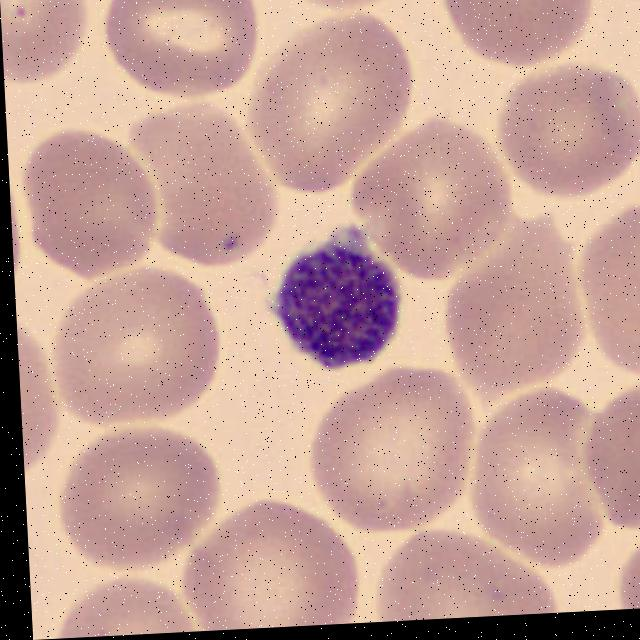platelets: (278, 242, 402, 373)
rbc: (40, 262, 227, 440), (336, 110, 516, 282), (119, 97, 284, 267), (459, 387, 607, 574), (309, 368, 470, 536), (43, 435, 222, 584), (250, 22, 408, 186), (446, 233, 590, 405), (352, 513, 574, 623), (14, 125, 163, 288), (489, 46, 640, 206), (177, 509, 357, 632), (95, 0, 266, 102), (429, 0, 596, 81), (564, 209, 640, 383), (35, 564, 201, 640), (0, 0, 98, 94), (586, 391, 640, 530), (256, 0, 418, 25), (607, 535, 640, 610)
